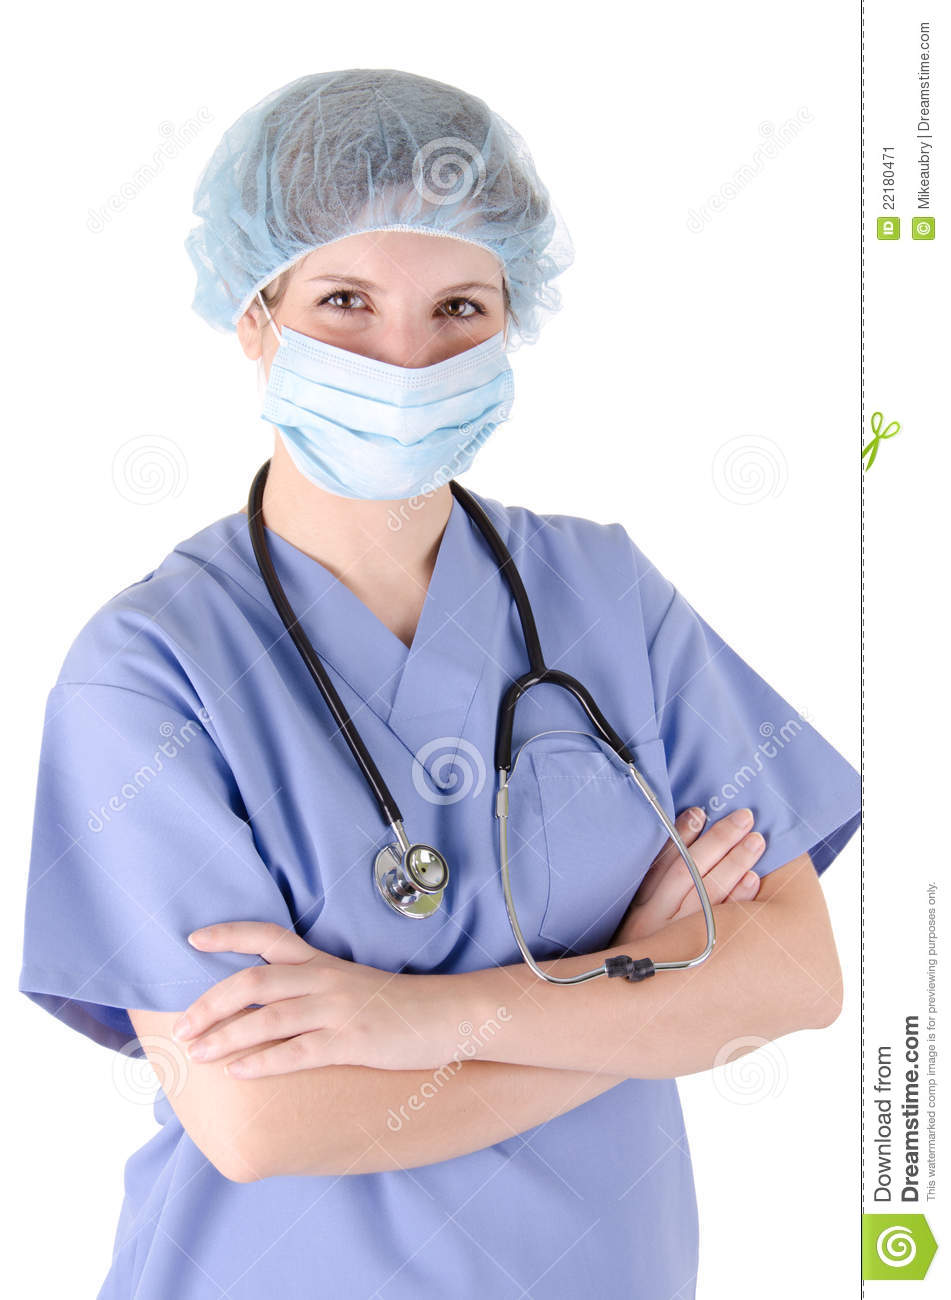mask: (251, 321, 539, 497)
